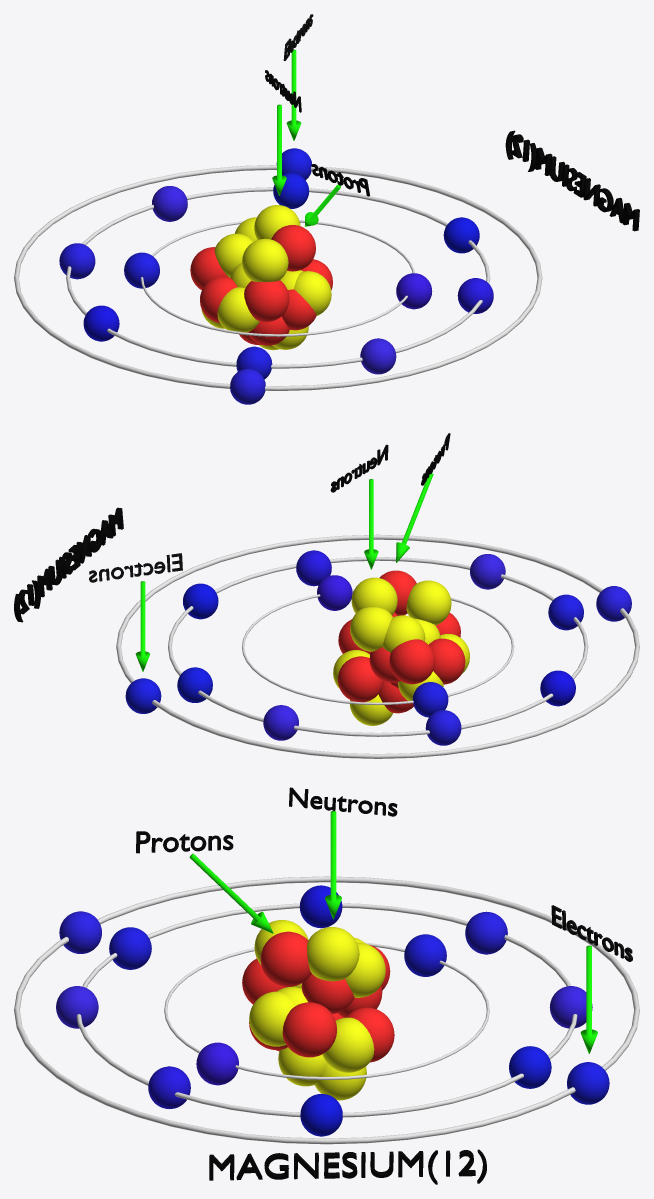
The model's file is Magnesium Atomic Model .gltf.
3 views of the same model, one above another, from view 1: azimuth 30°, elevation 25°; view 2: azimuth 150°, elevation 25°; view 3: azimuth 270°, elevation 25° (orthographic). The views are drawn at different scales.
Visible parts, largest first — view 1: Sphere.017, Torus.003, Torus.002, Text.003, Torus, Sphere.012, Sphere.001, Sphere.011, Sphere.007, Sphere.006, Sphere.009, Sphere.005 (+6 smaller); view 2: Sphere.017, Torus.003, Torus.002, Text.003, Torus, Sphere.007, Sphere.005, Sphere.011, Sphere.012, Sphere.009, Sphere.004, Sphere.010 (+10 smaller); view 3: Sphere.017, Torus.003, Torus.002, Text.003, Torus, Sphere.009, Sphere.007, Sphere.005, Sphere.006, Sphere.004, Sphere, Sphere.001 (+11 smaller).
Part boxes in pixels (x1,y1,x2,y2): Sphere.017: (190,205,332,350); Torus.003: (14,165,542,390); Torus.002: (66,187,490,368); Text.003: (505,130,639,231); Torus: (140,220,414,336); Sphere.012: (360,338,396,374); Sphere.001: (230,368,265,404); Sphere.011: (152,186,187,221); Sphere.007: (396,273,432,309); Sphere.006: (124,252,159,288); Sphere.009: (443,217,479,253); Sphere.005: (59,243,95,279); Sphere.017: (333,570,469,725); Torus.003: (116,534,639,758); Torus.002: (168,557,588,736); Text.003: (14,507,123,622); Torus: (242,589,514,705); Sphere.007: (317,575,352,610); Sphere.005: (425,710,461,745); Sphere.011: (263,705,298,740); Sphere.012: (470,554,505,589); Sphere.009: (183,583,218,619); Sphere.004: (548,594,583,630); Sphere.010: (540,670,575,706); Sphere.017: (242,920,394,1100); Torus.003: (14,876,639,1144); Torus.002: (76,903,577,1117); Text.003: (209,1149,486,1184); Torus: (164,942,489,1079); Sphere.009: (300,1093,342,1136); Sphere.007: (196,1042,238,1085); Sphere.005: (465,911,507,954); Sphere.006: (404,934,446,976); Sphere.004: (109,927,151,969); Sphere: (567,1062,609,1104); Sphere.001: (59,911,101,953).
Size of the model in its own units: 4.88 by 2.28 by 4.13.
